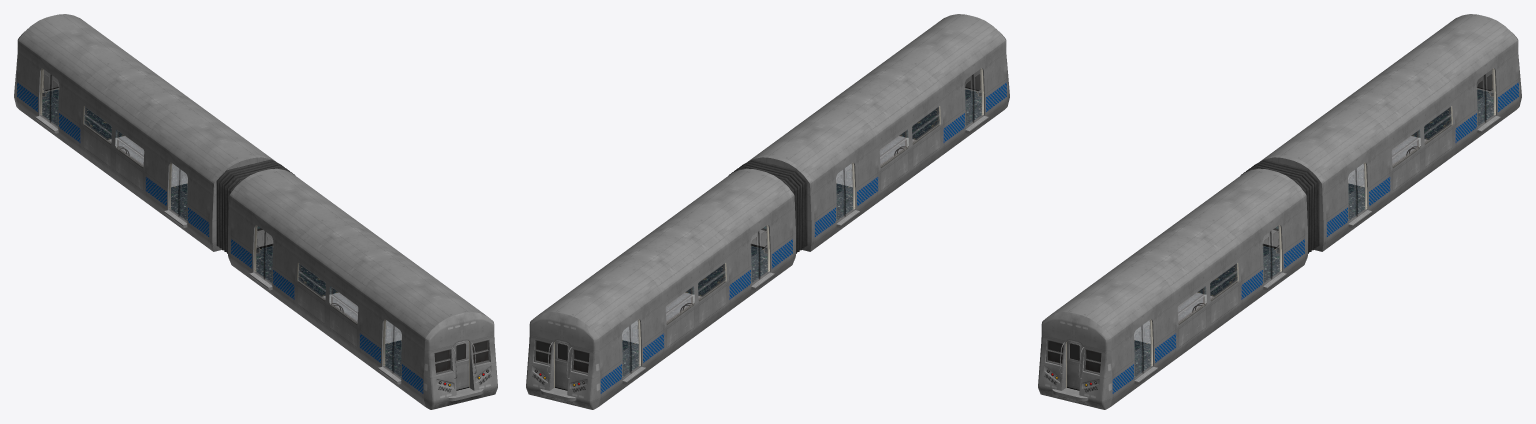
3 views of the same model, side by side, from view 1: azimuth 30°, elevation 25°; view 2: azimuth 150°, elevation 25°; view 3: azimuth 330°, elevation 25° (orthographic).
Parts seen in each view (by area): view 1: Object_8_mesh0, Object_4_mesh0, Object_9_mesh0, Object_7_mesh0, Object_11_mesh0, Object_10_mesh0, Object_5_mesh0; view 2: Object_8_mesh0, Object_5_mesh0, Object_9_mesh0, Object_7_mesh0, Object_11_mesh0, Object_10_mesh0, Object_4_mesh0; view 3: Object_8_mesh0, Object_4_mesh0, Object_9_mesh0, Object_7_mesh0, Object_11_mesh0, Object_10_mesh0, Object_5_mesh0.
Part boxes in pixels (<box>): Object_8_mesh0: <box>16,14,486,406</box>; Object_4_mesh0: <box>44,69,497,409</box>; Object_9_mesh0: <box>40,68,401,379</box>; Object_7_mesh0: <box>40,68,401,378</box>; Object_11_mesh0: <box>83,106,357,322</box>; Object_10_mesh0: <box>115,130,400,342</box>; Object_5_mesh0: <box>14,29,487,378</box>; Object_8_mesh0: <box>537,14,1007,406</box>; Object_5_mesh0: <box>526,312,600,409</box>; Object_9_mesh0: <box>622,68,983,379</box>; Object_7_mesh0: <box>622,68,983,378</box>; Object_11_mesh0: <box>623,107,938,342</box>; Object_10_mesh0: <box>666,106,940,319</box>; Object_4_mesh0: <box>534,29,1009,390</box>; Object_8_mesh0: <box>1049,14,1519,406</box>; Object_4_mesh0: <box>1038,69,1491,409</box>; Object_9_mesh0: <box>1134,68,1495,379</box>; Object_7_mesh0: <box>1134,68,1495,378</box>; Object_11_mesh0: <box>1178,106,1452,322</box>; Object_10_mesh0: <box>1135,130,1420,342</box>; Object_5_mesh0: <box>1048,32,1521,378</box>.
Bounding box in the file's own units: 3552 × 3667 × 32935.
Materials: 8 (8 with a texture image).
